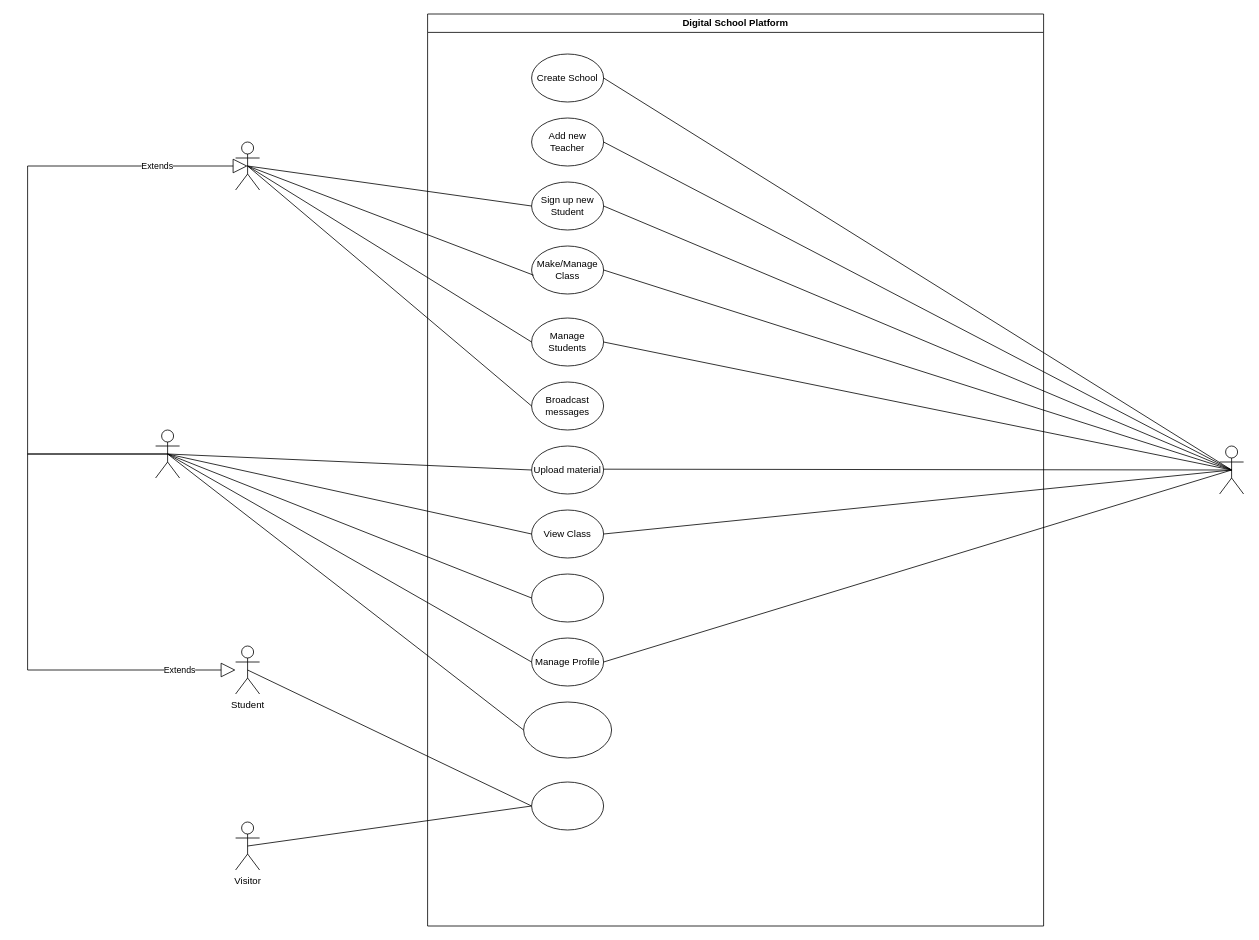
This 1259x940 diagram has some shape labels left out. Each missing label, with the box of its shape:
Admin: (1219, 445, 1244, 494)
Authentication: (531, 573, 604, 622)
Make Inquiry: (531, 781, 604, 830)
Send message to users of same school: (523, 701, 612, 758)
Teacher: (235, 141, 260, 190)
User: (155, 429, 180, 478)
